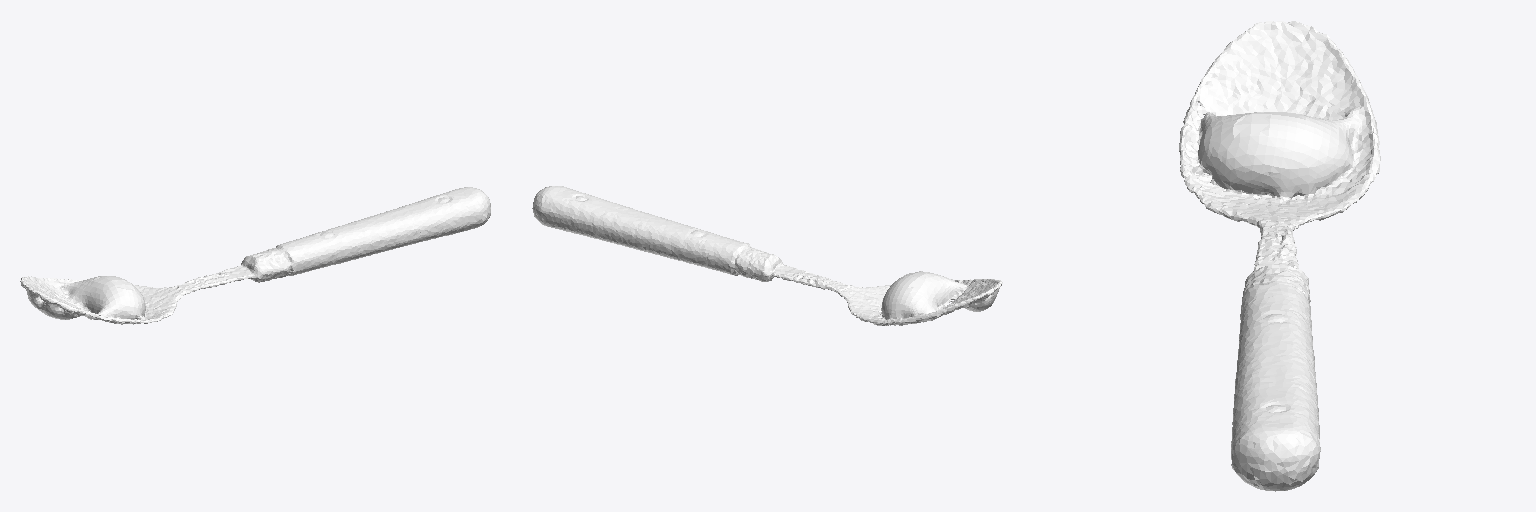
The robot description file, URDF, robot "031_spoon":
<?xml version="1.0"?>
<robot name="031_spoon">
	<link name="_name">
		<visual>
			<origin rpy="0 0 0" xyz="0 0 0" />
			<geometry>
				<mesh filename="031_spoon/google_16k/textured.obj" scale="1 1 1" />
			</geometry>
			<material name="texture">
				<color rgba="1.0 1.0 1.0 1.0" />
			</material>
		</visual>
		<collision>
			<origin rpy="0 0 0" xyz="0 0 0" />
			<geometry>
				<mesh filename="031_spoon/google_16k/textured_vhacd.obj" scale="1 1 1" />
			</geometry>
		</collision>
		<inertial>
			<origin rpy="0 0 0" xyz="0.0 0.0 0.0" /> 
			<mass value="0.035" />
			<inertia ixx="1.0" ixy="0.0" ixz="0.0" iyy="1.0" iyz="0.0" izz="1.0" />
		</inertial>
	</link>
</robot>

--- What the picture shows (computed from the rendered views, not written in the file) ---
Views: 3 orthographic renders of the robot side by side, from view 1: azimuth 30°, elevation 25°; view 2: azimuth 150°, elevation 25°; view 3: azimuth 270°, elevation 25°.
Robot: 031_spoon — 1 links, 0 joints (none); root link _name; default pose: all joints at 0.
Links seen in each view (by area): view 1: _name; view 2: _name; view 3: _name.
Boxes of the visible links, x1,y1,x2,y2 form: _name: (20,187,490,324); _name: (532,186,1002,325); _name: (1179,21,1380,491).
Size in the robot's own frame: 0.1955 by 0.0416 by 0.0214 metres.
1 mesh visuals loaded from 1 distinct referenced files (1 OBJ).
